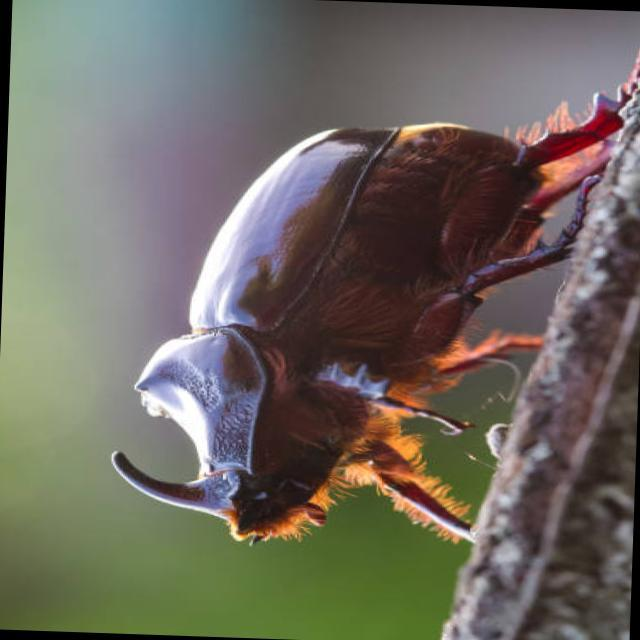Rhino-beetle: (103, 88, 553, 563)
